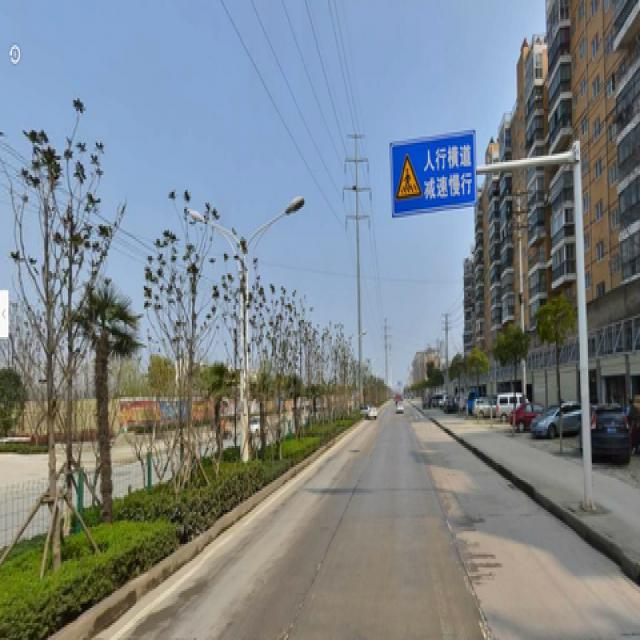cinn: (546, 286, 570, 439), (493, 326, 524, 414)
magn: (20, 115, 91, 561), (157, 202, 215, 476)
